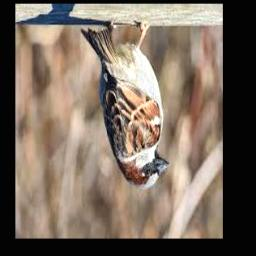Sparrow: (81, 22, 170, 190)
